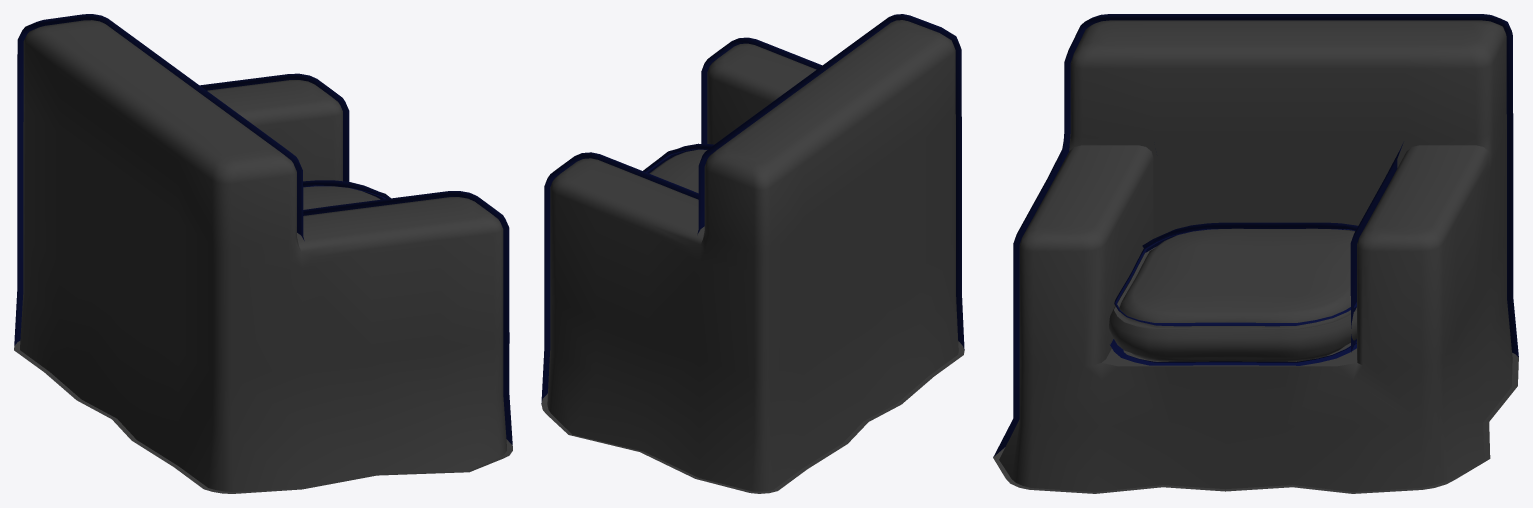
3 views of the same model, side by side, from view 1: azimuth 30°, elevation 25°; view 2: azimuth 150°, elevation 25°; view 3: azimuth 270°, elevation 25° (orthographic). The views are drawn at different scales.
Visible parts, largest first — view 1: Chair; view 2: Chair; view 3: Chair.
Part boxes in pixels (left/top/right/bottom): Chair: left=14, top=14, right=512, bottom=493; Chair: left=541, top=14, right=964, bottom=493; Chair: left=993, top=14, right=1518, bottom=493.
Bounding box in the file's own units: 0.6716 × 0.7247 × 1.
